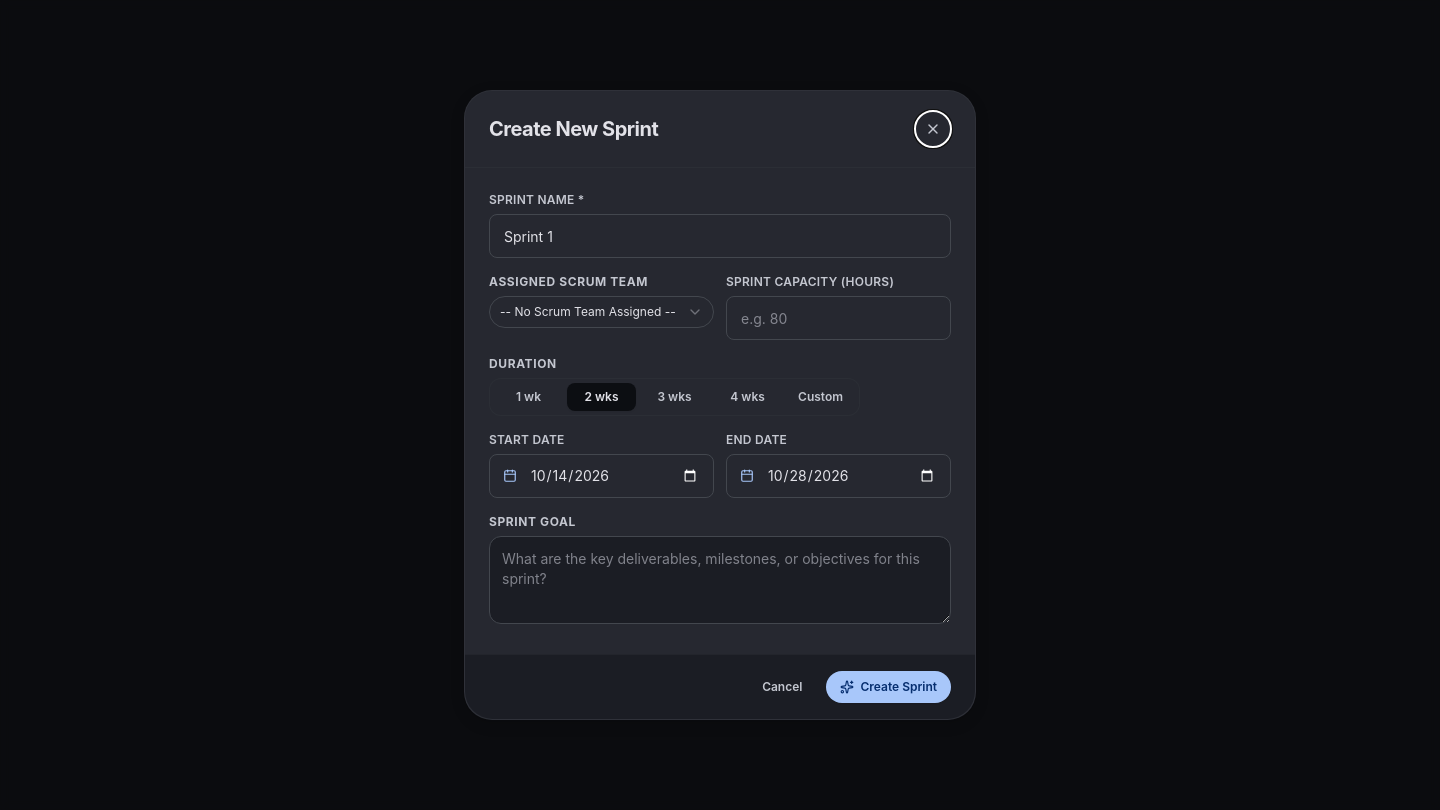
Scenario: SprintFormModal Component › validates required name field before submitting
Clear the field labelled "Sprint Name *" at (720, 236), box x1=489 y1=214 x2=951 y2=258
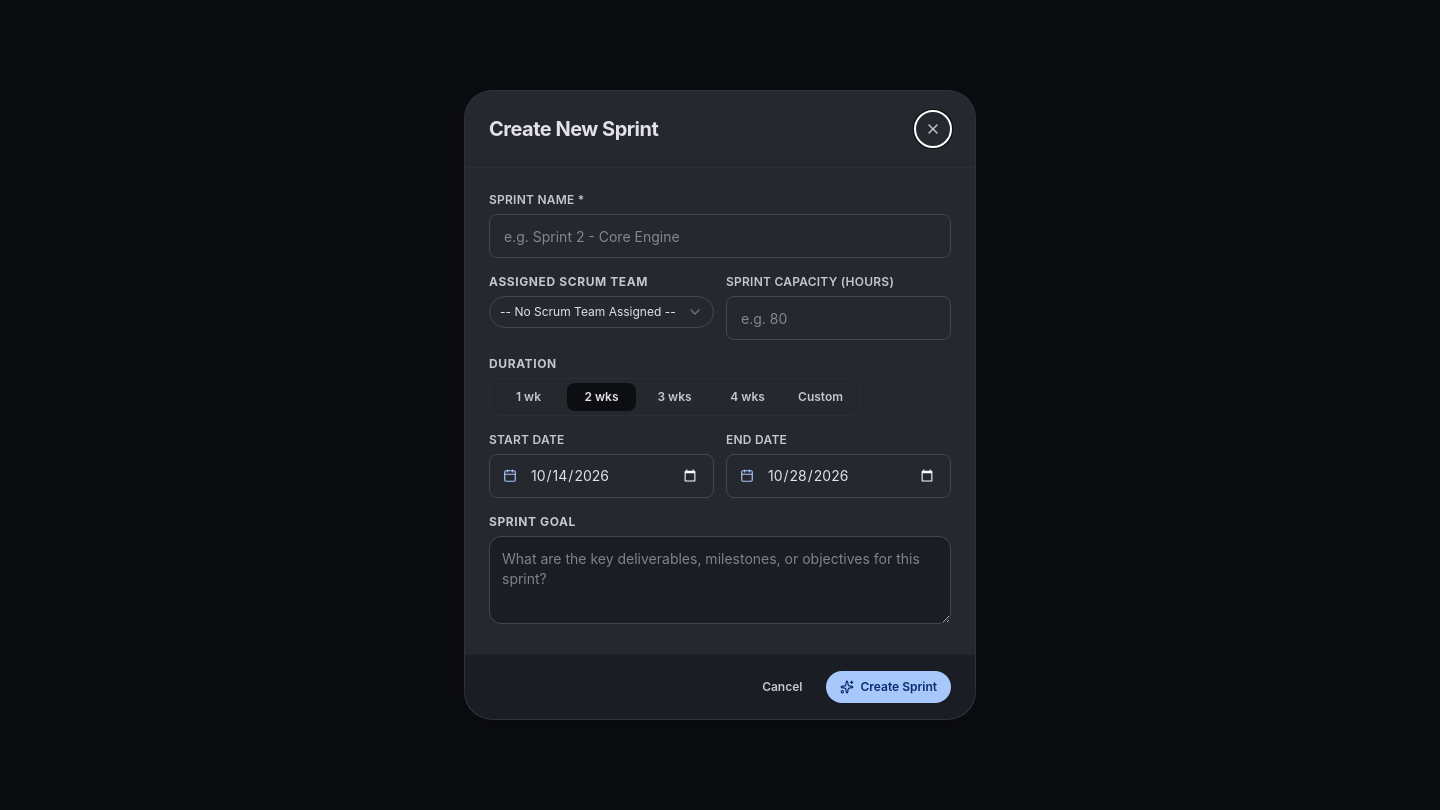
Click the button "Create Sprint".
click(889, 687)  # box x1=826 y1=671 x2=951 y2=703
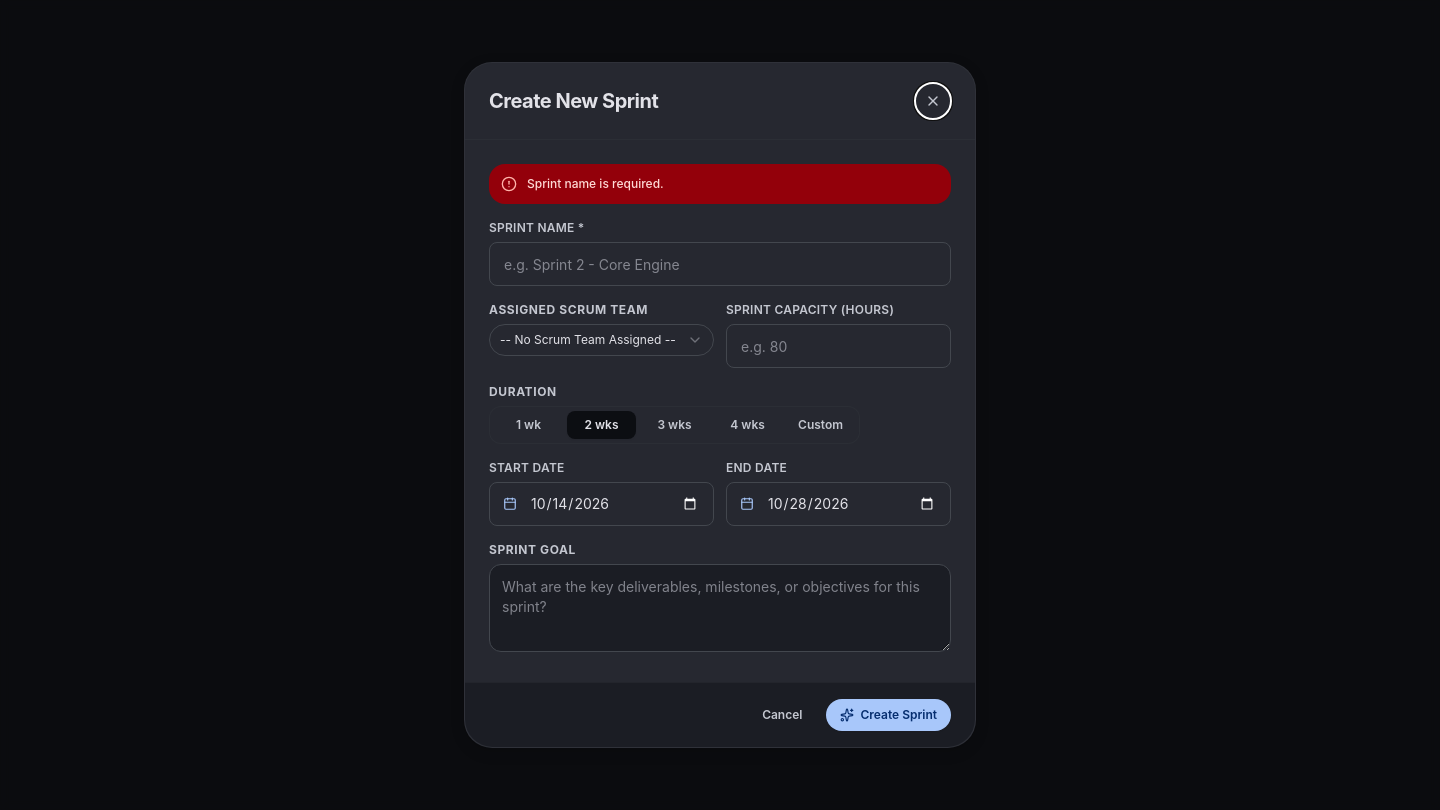
Now the text "Sprint name is required." is shown, box x1=527 y1=176 x2=664 y2=191
